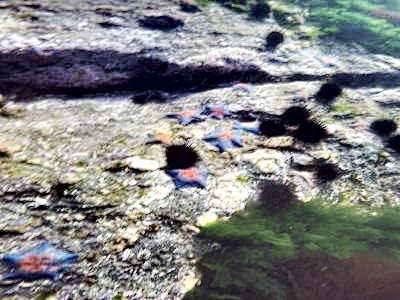urchin: (261, 178, 290, 212), (163, 143, 194, 167), (295, 122, 326, 145), (260, 118, 285, 135), (317, 159, 338, 178), (318, 82, 339, 100), (282, 106, 308, 120), (370, 117, 393, 132), (265, 30, 283, 47), (252, 3, 269, 20)
